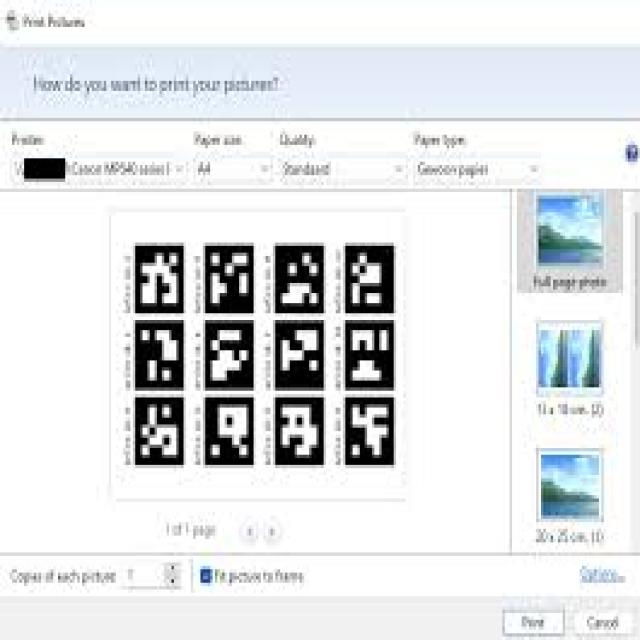aruco: (272, 242, 326, 318), (347, 316, 396, 390), (204, 317, 256, 386), (134, 395, 186, 464), (348, 392, 399, 462), (135, 320, 184, 392), (348, 242, 398, 312), (203, 396, 254, 464), (134, 243, 184, 312), (275, 395, 325, 464), (206, 240, 253, 312), (278, 318, 322, 386), (447, 451, 447, 543)
